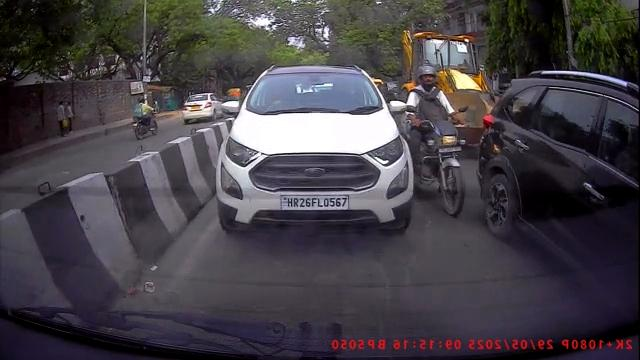motorcycle_with_helmet: (397, 63, 469, 217)
